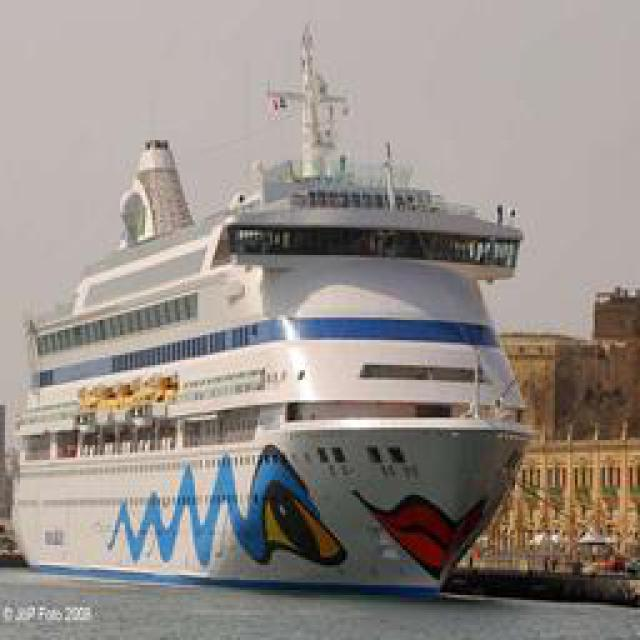Ship: (25, 152, 548, 595)
